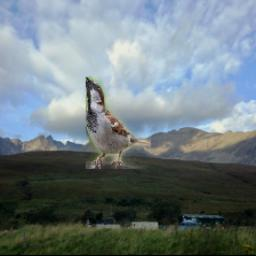Sparrow: (85, 76, 150, 169)
